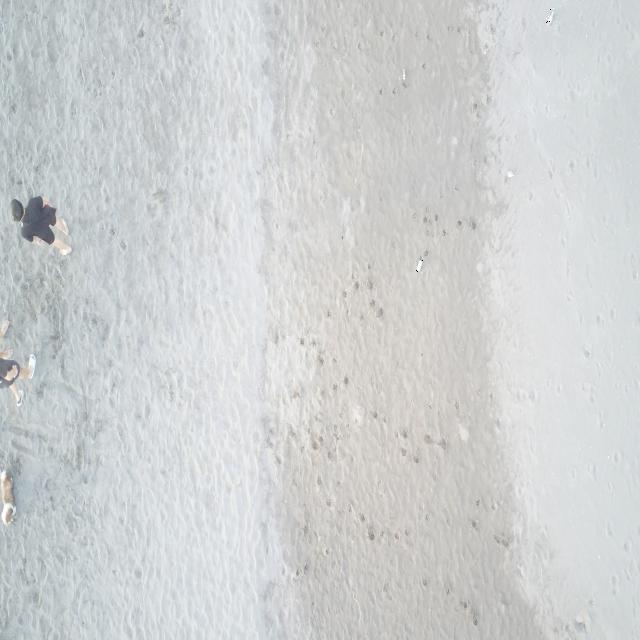tin-and-aluminum-cans: (546, 8, 554, 25), (416, 258, 423, 274), (506, 169, 514, 179), (401, 68, 407, 81)
